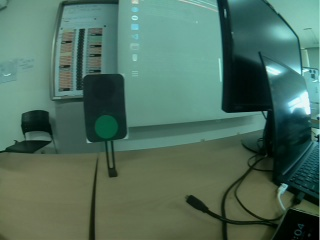green_light: (82, 77, 126, 139)
